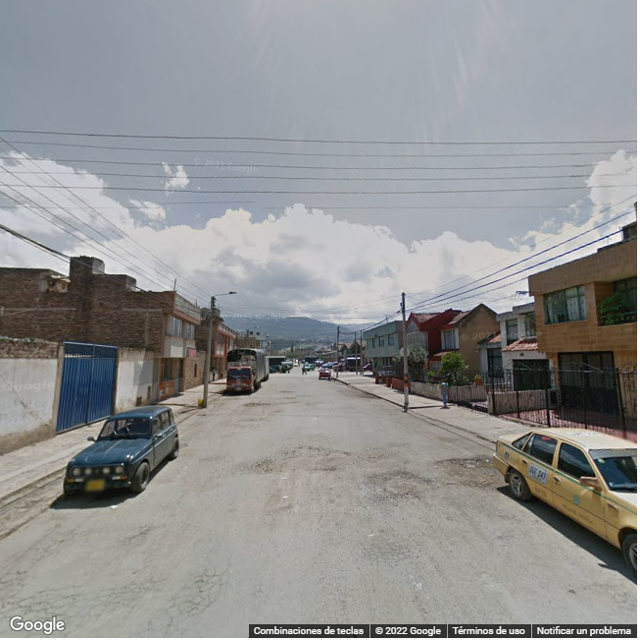D00: (477, 574, 518, 622), (196, 585, 221, 609), (160, 602, 169, 637), (225, 549, 231, 577)
D20: (10, 592, 129, 633), (360, 526, 416, 563)
